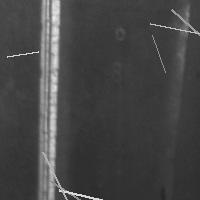scratches: (32, 1, 62, 200), (37, 147, 90, 200), (166, 4, 200, 49), (174, 3, 191, 92), (44, 175, 98, 200), (145, 19, 200, 39), (147, 30, 170, 77), (54, 185, 120, 200), (2, 46, 43, 61)
